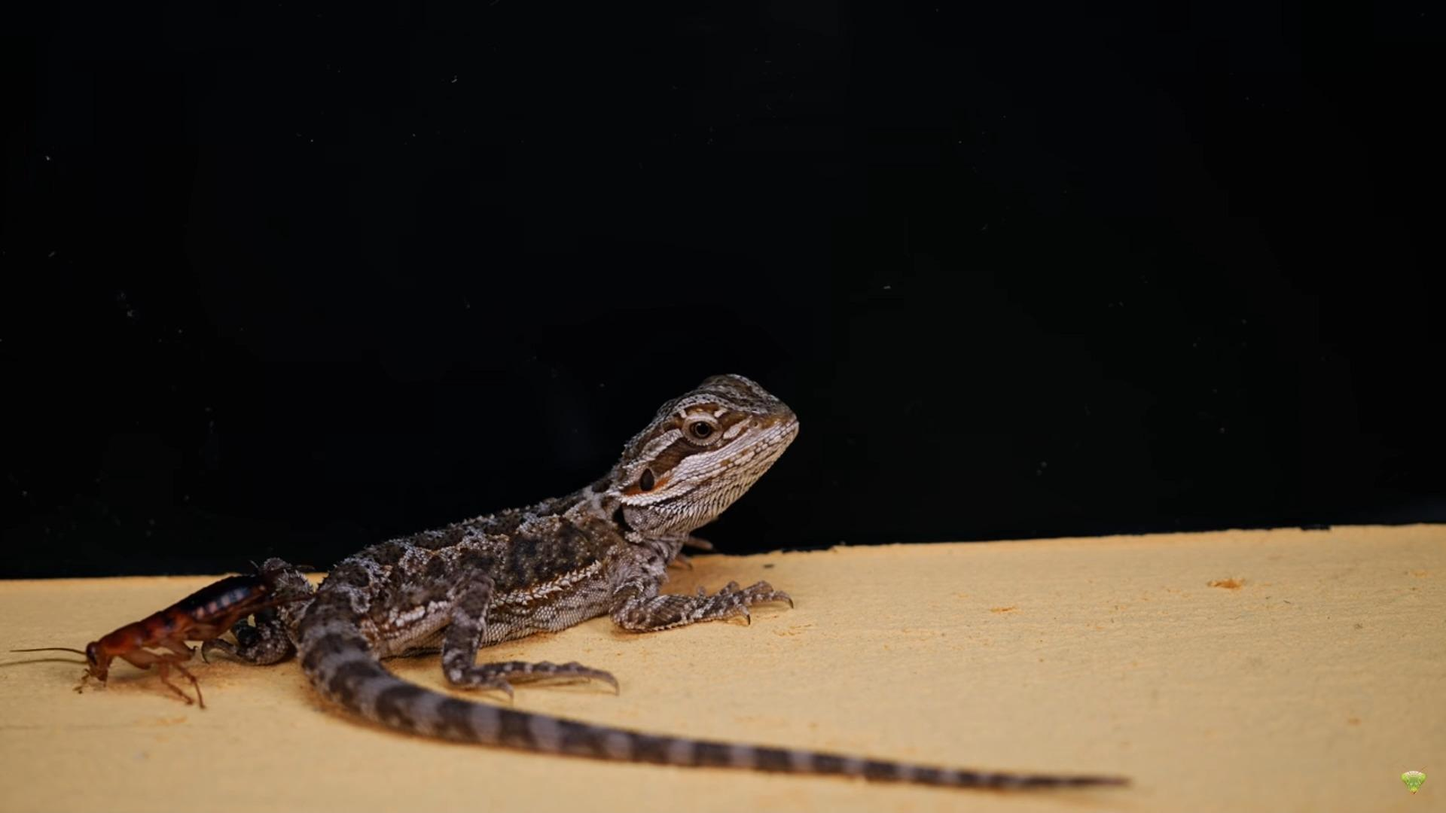cockroach: (64, 563, 262, 720)
lizard: (297, 352, 827, 758)
